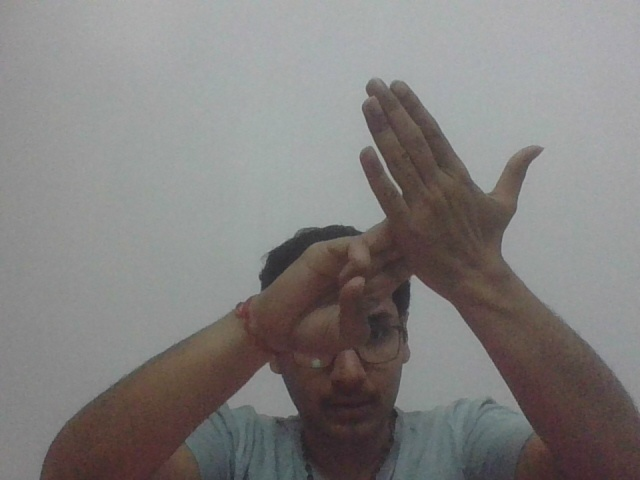M: (317, 71, 543, 351)
